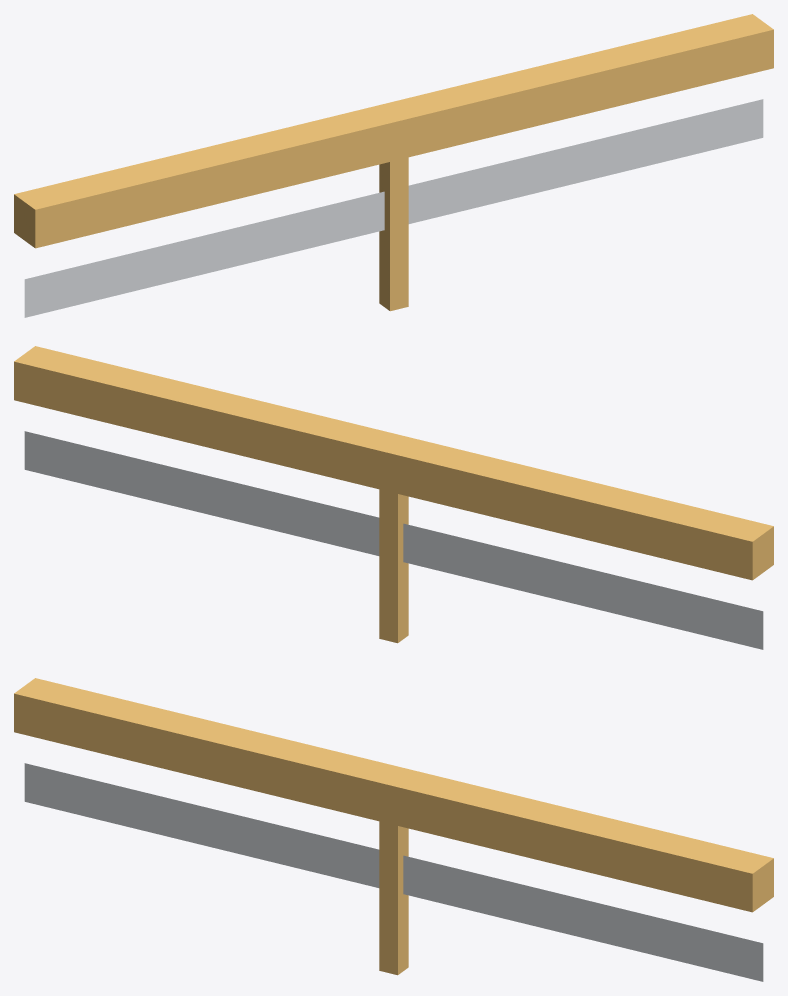
File: space_rail_middle.glb
3 views of the same model, one above another, from view 1: azimuth 30°, elevation 25°; view 2: azimuth 150°, elevation 25°; view 3: azimuth 330°, elevation 25° (orthographic).
Parts seen in each view (by area): view 1: rail_middle; view 2: rail_middle; view 3: rail_middle.
Boxes of the visible parts, box(x1,y1,x2,y2) form: rail_middle: box(14, 14, 773, 317); rail_middle: box(14, 346, 773, 649); rail_middle: box(14, 678, 773, 981).
Size of the model in its own units: 1 by 0.25 by 0.05.
